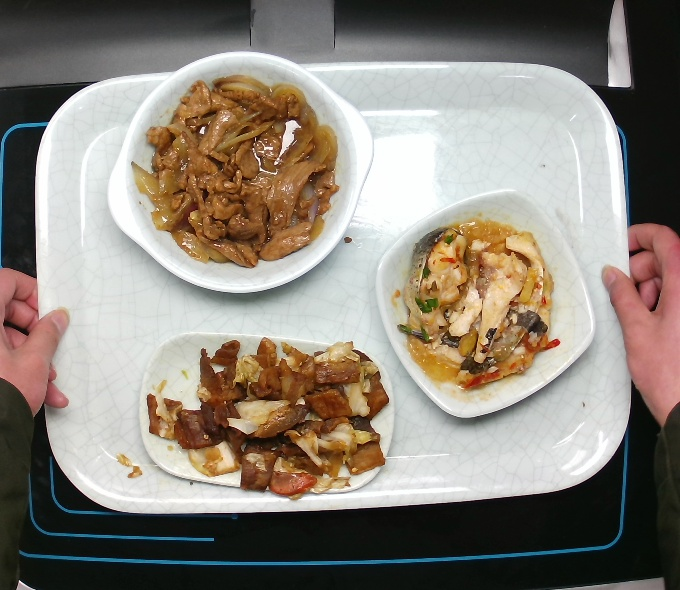wcq-DuoJiaoYuKuai: (383, 210, 578, 391)
wcq-PaoCaiRouPian: (140, 331, 378, 499)
wcq-YangCongRouPian: (126, 64, 347, 265)
